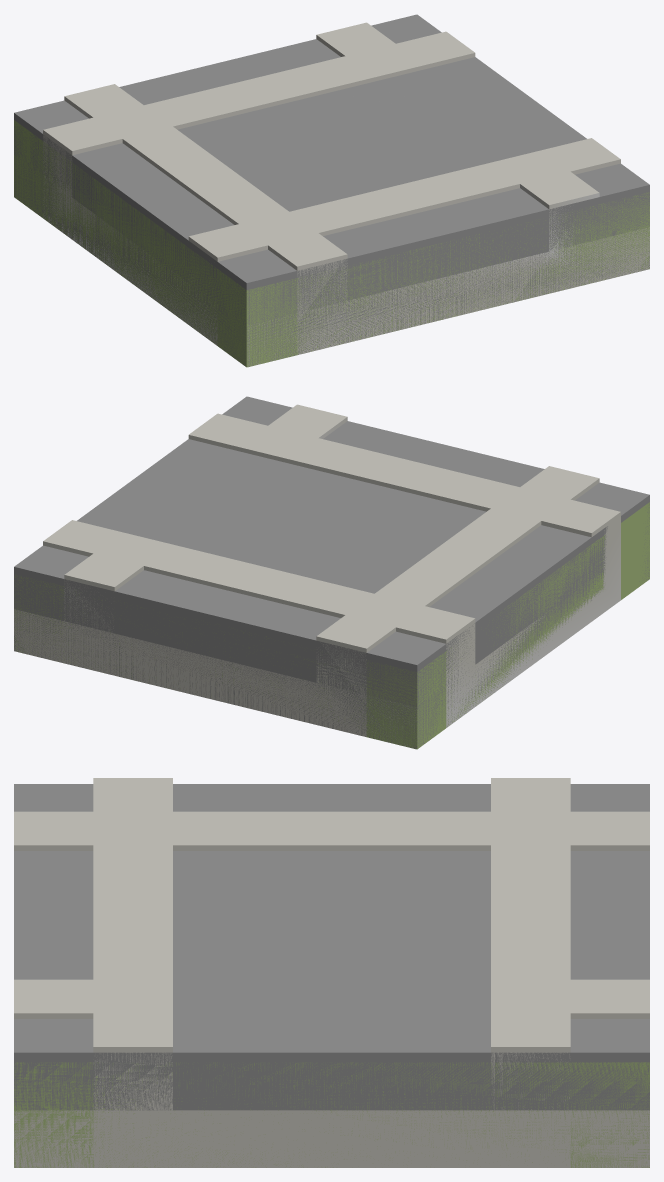
The model's file is kenny_road_tiles.gltf.
3 renders of one model, top to bottom at view 1: azimuth 30°, elevation 25°; view 2: azimuth 150°, elevation 25°; view 3: azimuth 270°, elevation 25°, orthographic. The views are drawn at different scales.
Visible parts, largest first — view 1: roadTile_034, roadTile_027, roadTile_141, roadTile_030, roadTile_162, roadTile_035, roadTile_150, roadTile_163; view 2: roadTile_027, roadTile_034, roadTile_141, roadTile_035, roadTile_162, roadTile_030, roadTile_150; view 3: roadTile_027, roadTile_034, roadTile_141, roadTile_162, roadTile_035, roadTile_163, roadTile_030, roadTile_150.
Part boxes in pixels (x1,y1,x2,y2): roadTile_034: [14, 15, 649, 366]; roadTile_027: [14, 14, 649, 367]; roadTile_141: [14, 22, 649, 364]; roadTile_030: [15, 40, 560, 366]; roadTile_162: [46, 32, 649, 365]; roadTile_035: [70, 15, 620, 244]; roadTile_150: [137, 82, 649, 354]; roadTile_163: [247, 195, 649, 366]; roadTile_027: [14, 396, 649, 749]; roadTile_034: [14, 396, 649, 748]; roadTile_141: [14, 404, 649, 747]; roadTile_035: [16, 414, 560, 651]; roadTile_162: [14, 414, 619, 746]; roadTile_030: [79, 422, 648, 747]; roadTile_150: [183, 421, 543, 637]; roadTile_027: [14, 811, 649, 1167]; roadTile_034: [14, 784, 649, 1052]; roadTile_141: [14, 778, 649, 1167]; roadTile_162: [93, 778, 570, 1051]; roadTile_035: [93, 811, 649, 1167]; roadTile_163: [14, 1062, 649, 1167]; roadTile_030: [14, 784, 649, 984]; roadTile_150: [15, 851, 640, 996].
Bounding box in the file's own units: 3 × 0.63 × 3.
